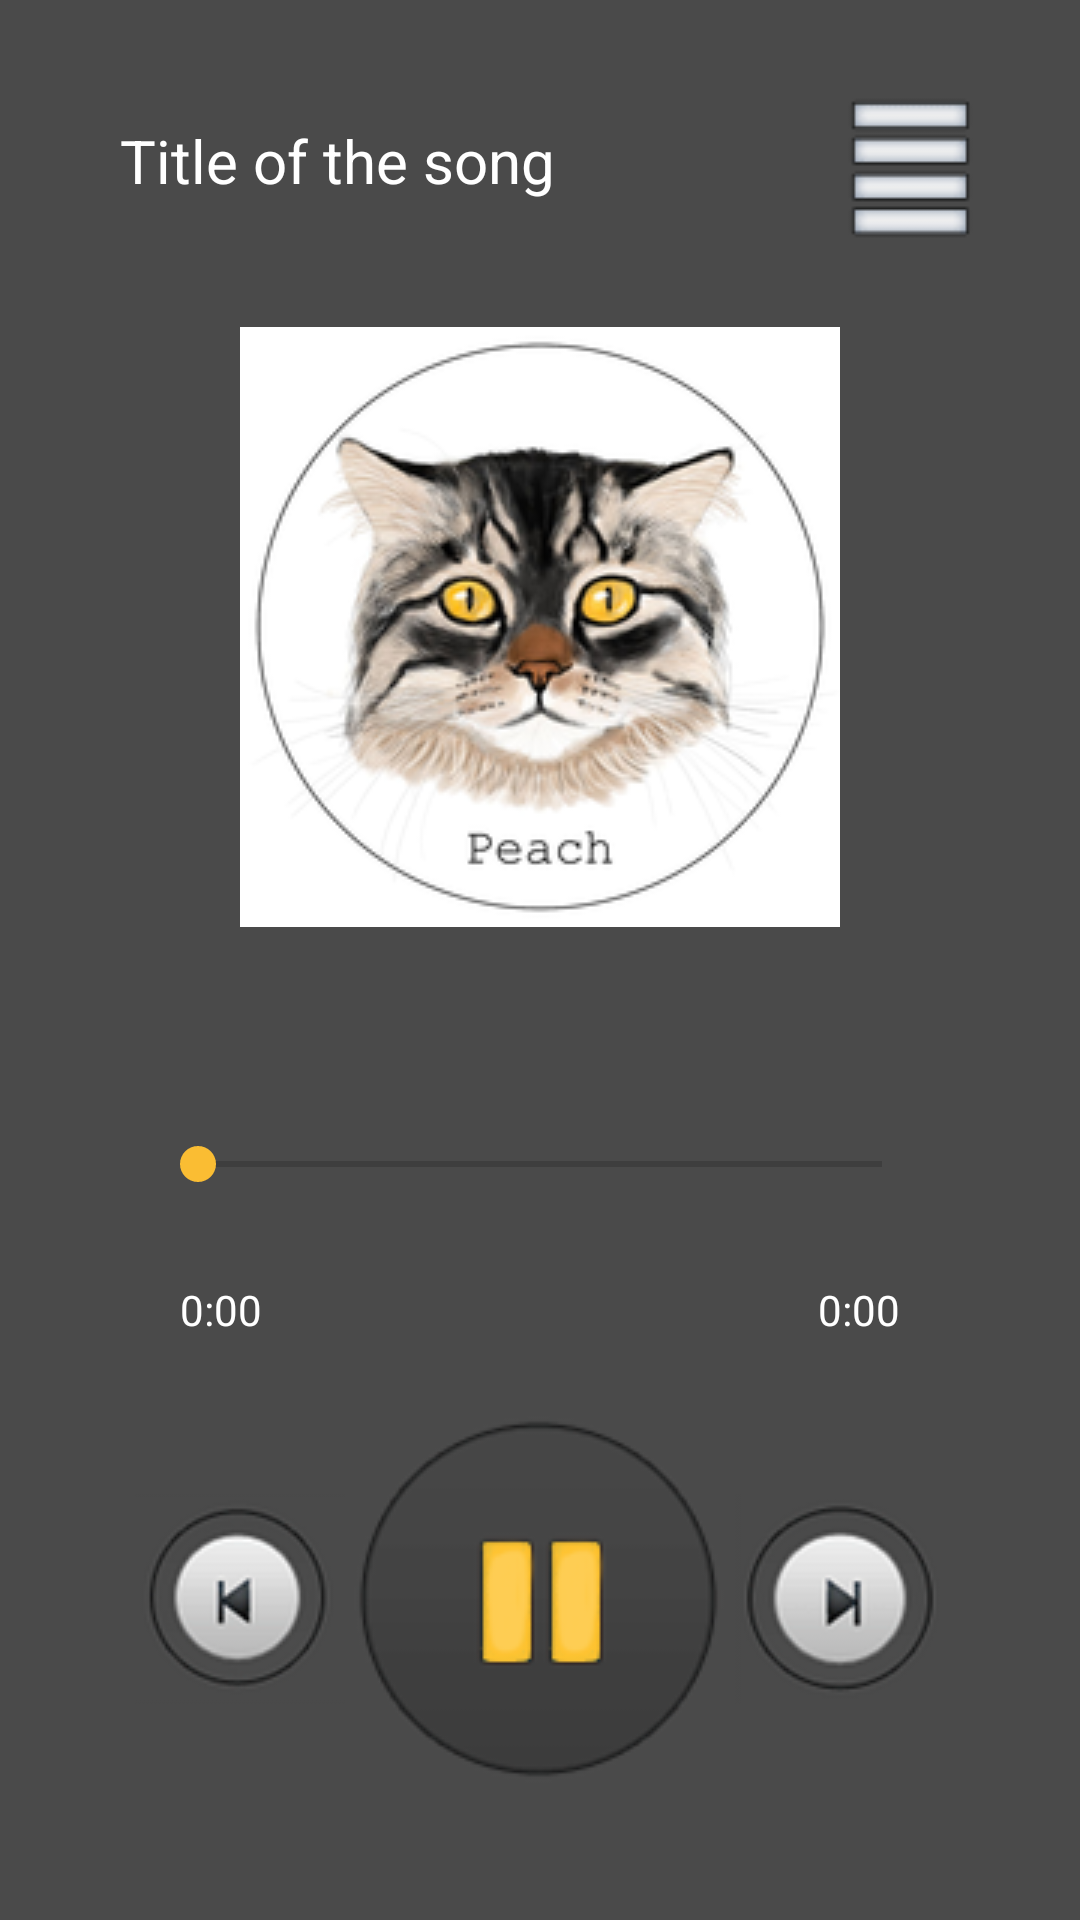

Locate icon controls on the screen. Image size 1080px x 1920px, boxes as rect(x1, y1, x2, y2).
next: rect(748, 1508, 932, 1689)
pause: rect(362, 1424, 715, 1774)
playlist: rect(852, 102, 969, 234)
previous: rect(150, 1510, 325, 1685)
